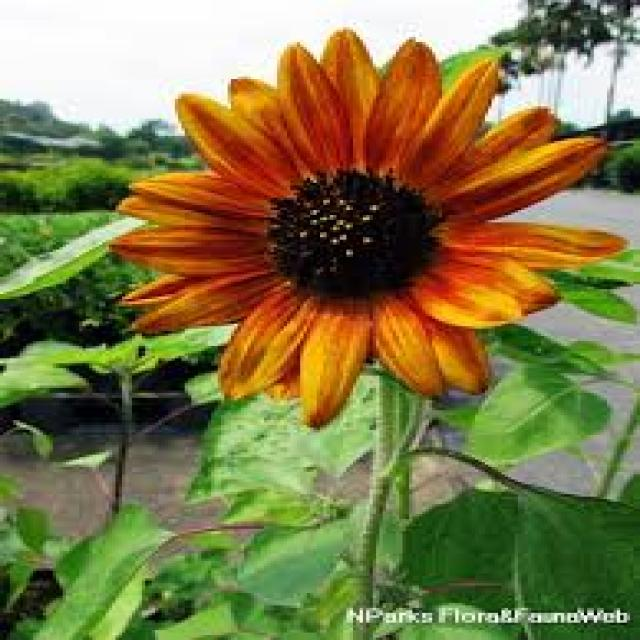sunflower: (101, 23, 640, 440)
